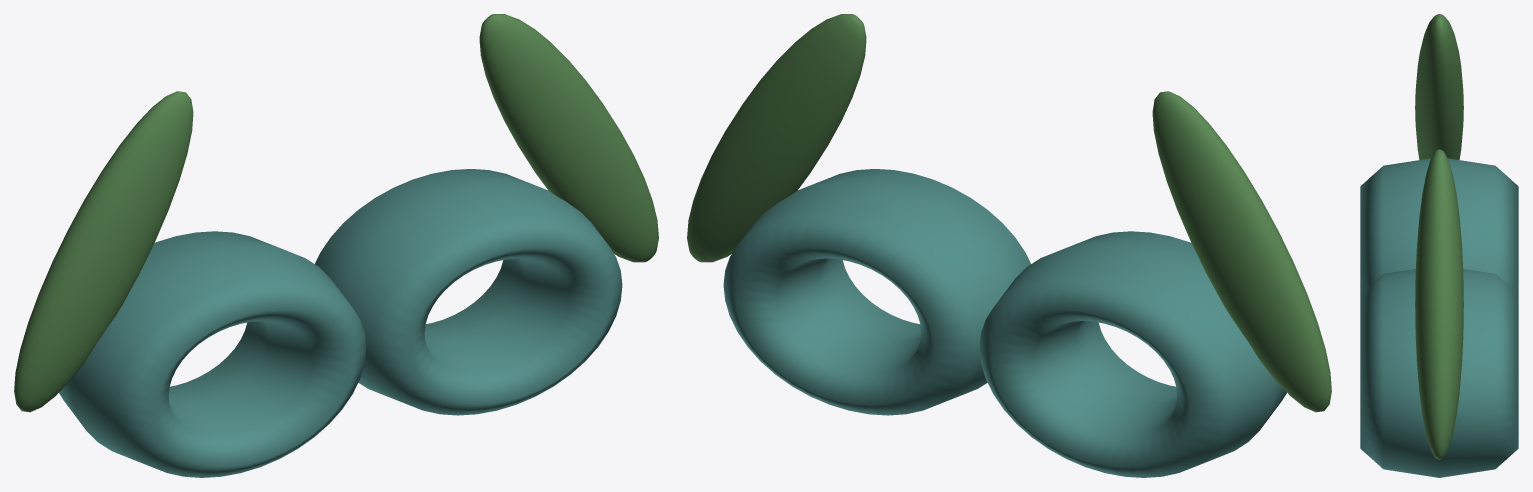
The model's file is wp-masque-de-carnaval.glb.
3 views of the same model, side by side, from view 1: azimuth 30°, elevation 25°; view 2: azimuth 150°, elevation 25°; view 3: azimuth 270°, elevation 25° (orthographic). The views are drawn at different scales.
Parts seen in each view (by area): view 1: wp-masque-de-carnaval; view 2: wp-masque-de-carnaval; view 3: wp-masque-de-carnaval.
Boxes of the visible parts, x1,y1,x2,y2 form: wp-masque-de-carnaval: [14, 14, 658, 477]; wp-masque-de-carnaval: [687, 14, 1331, 477]; wp-masque-de-carnaval: [1360, 14, 1518, 477].
Bounding box in the file's own units: 0.203 × 0.1127 × 0.05.
